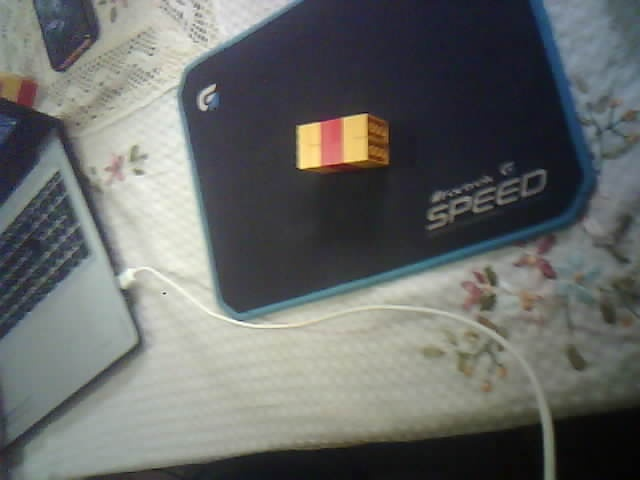lego: (294, 113, 391, 175)
